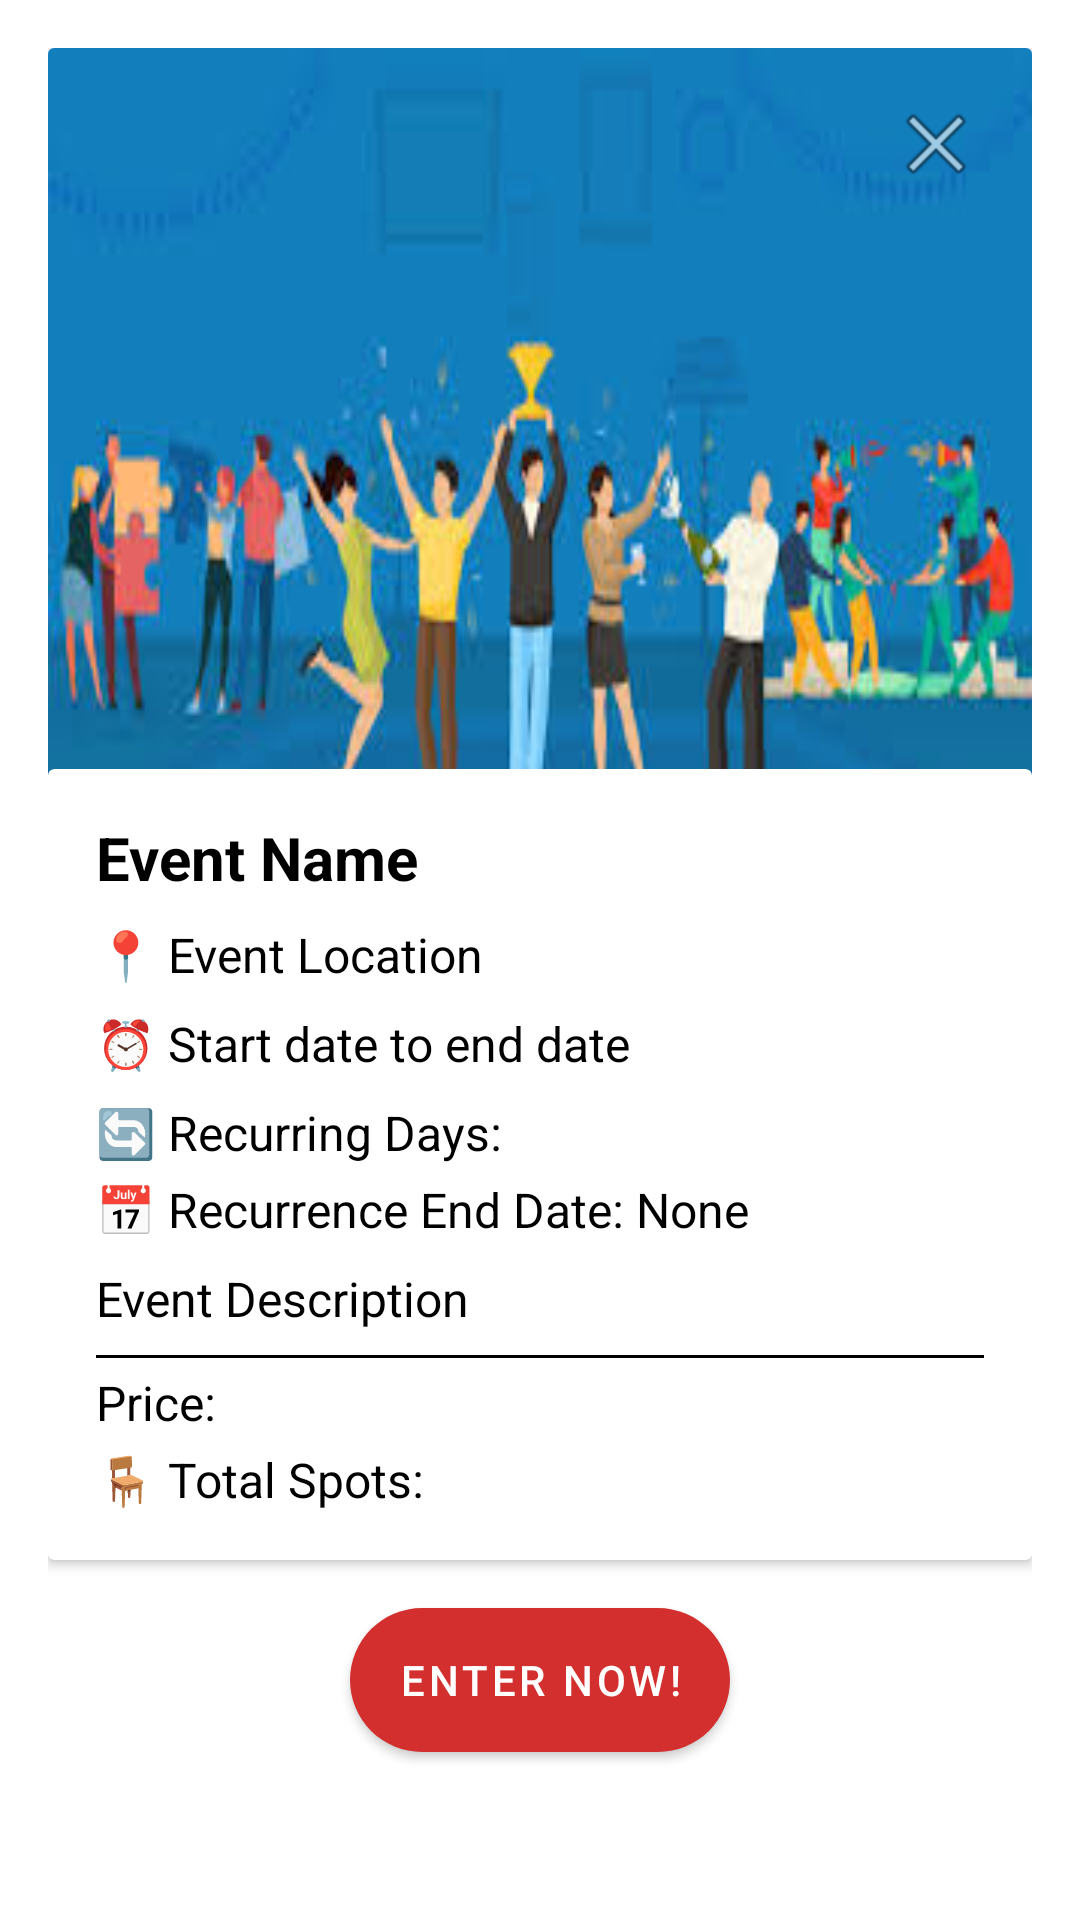

Named icons in this screenshot (1080×1920) and their centers, [x,y]:
close clear cancel: [936,144]
